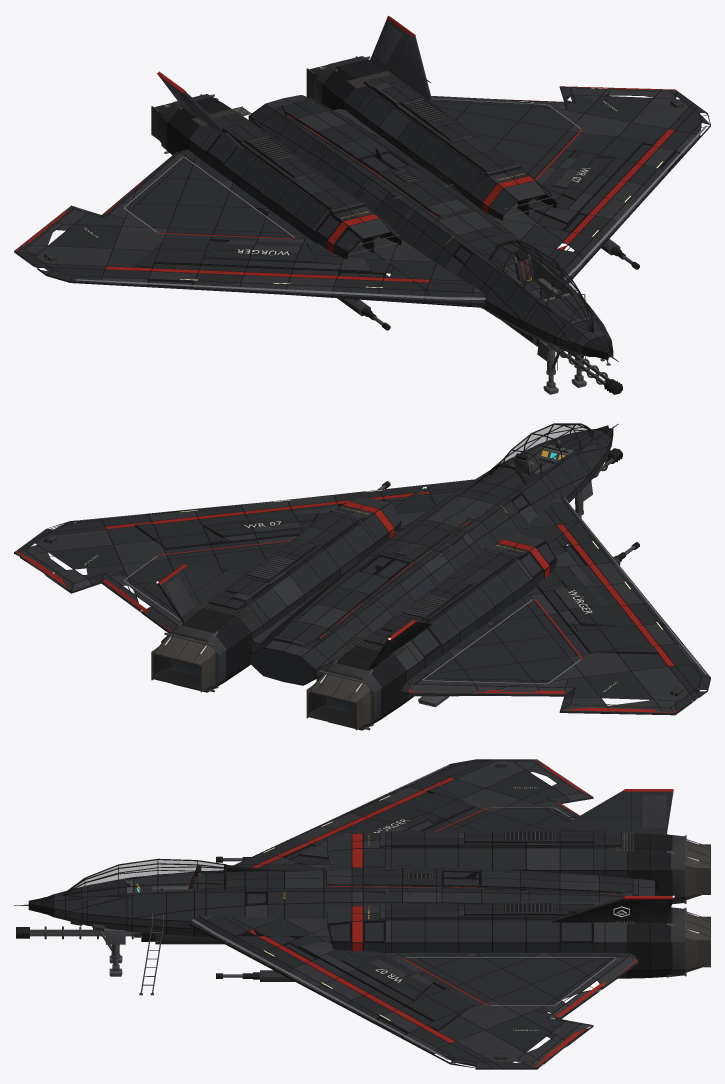
File: Wuerger.glb
3 renders of one model, top to bottom at view 1: azimuth 30°, elevation 25°; view 2: azimuth 150°, elevation 25°; view 3: azimuth 270°, elevation 25°, orthographic. The views are drawn at different scales.
Visible parts, largest first — view 1: Fluegel links.001, Duese.002, Bremsschlitz.004, Antenne.001, Akzentstreifen.098, Akzentstreifen.110, Abwurfschiene.004, Federbein.004; view 2: Fluegel links.001, Duese.002, Bremsschlitz.004, Antenne.001, Akzentstreifen.098, Abwurfschiene.004, Akzentstreifen.110, HUD-Scheibe.001, Federbein.004; view 3: Fluegel links.001, Duese.002, Bremsschlitz.004, Antenne.001, Akzentstreifen.098, Abwurfschiene.004, Akzentstreifen.110, HUD-Scheibe.001, Federbein.004, Cockpitwanne.001.
Part boxes in pixels (<box>): Fluegel links.001: <box>14,18,710,354</box>; Duese.002: <box>15,24,699,384</box>; Bremsschlitz.004: <box>14,34,710,392</box>; Antenne.001: <box>167,59,639,394</box>; Akzentstreifen.098: <box>15,15,675,282</box>; Akzentstreifen.110: <box>76,98,706,299</box>; Abwurfschiene.004: <box>164,56,632,384</box>; Federbein.004: <box>537,289,610,394</box>; Fluegel links.001: <box>14,429,710,715</box>; Duese.002: <box>15,434,704,730</box>; Bremsschlitz.004: <box>14,426,710,719</box>; Antenne.001: <box>153,423,639,725</box>; Akzentstreifen.098: <box>15,491,675,712</box>; Abwurfschiene.004: <box>164,423,635,730</box>; Akzentstreifen.110: <box>76,497,706,684</box>; HUD-Scheibe.001: <box>497,425,587,468</box>; Federbein.004: <box>418,480,592,707</box>; Fluegel links.001: <box>54,759,673,1069</box>; Duese.002: <box>44,759,710,1069</box>; Bremsschlitz.004: <box>18,759,709,1068</box>; Antenne.001: <box>16,831,671,979</box>; Akzentstreifen.098: <box>249,759,673,1067</box>; Abwurfschiene.004: <box>14,831,686,977</box>; Akzentstreifen.110: <box>192,765,616,1059</box>; HUD-Scheibe.001: <box>70,860,223,891</box>; Federbein.004: <box>98,913,164,995</box>; Cockpitwanne.001: <box>127,874,205,891</box>.
Bounding box in the file's own units: 26 × 4.98 × 24.8.
